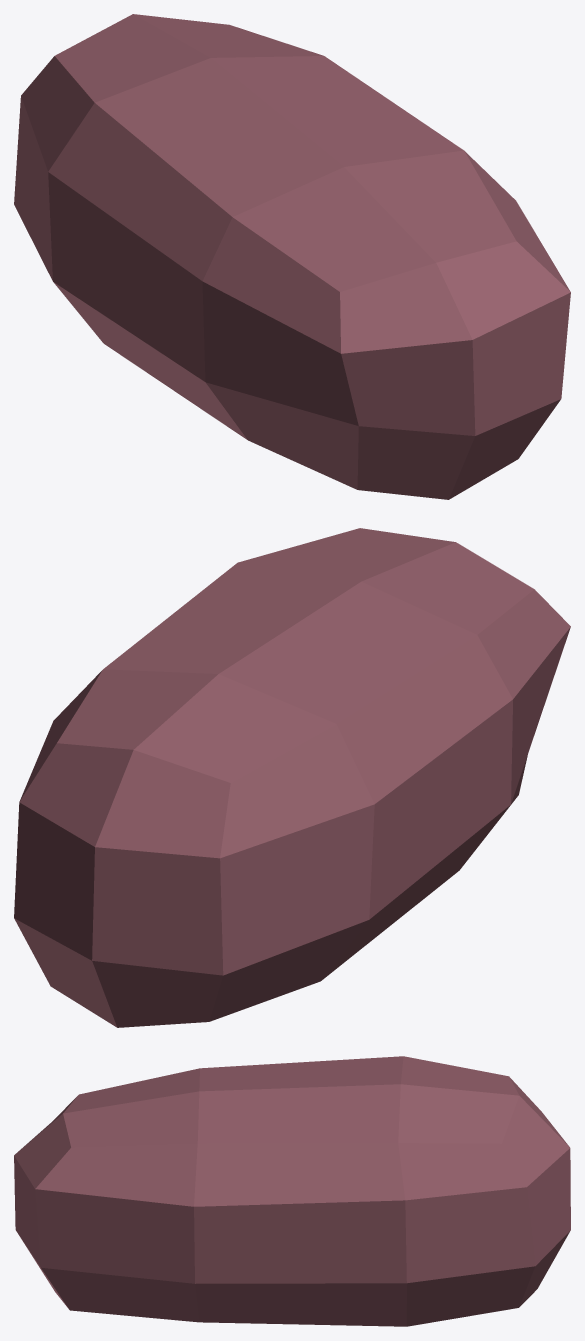
File: Rock_05_Lod1.fbx
3 renders of one model, top to bottom at view 1: azimuth 30°, elevation 25°; view 2: azimuth 150°, elevation 25°; view 3: azimuth 270°, elevation 25°, orthographic. The views are drawn at different scales.
Parts seen in each view (by area): view 1: Rock_05_Lod1; view 2: Rock_05_Lod1; view 3: Rock_05_Lod1.
Boxes of the visible parts, x1,y1,x2,y2 form: Rock_05_Lod1: [14, 14, 570, 499]; Rock_05_Lod1: [14, 528, 570, 1027]; Rock_05_Lod1: [14, 1056, 570, 1326].
Size of the model in its own units: 114 by 97.64 by 227.
